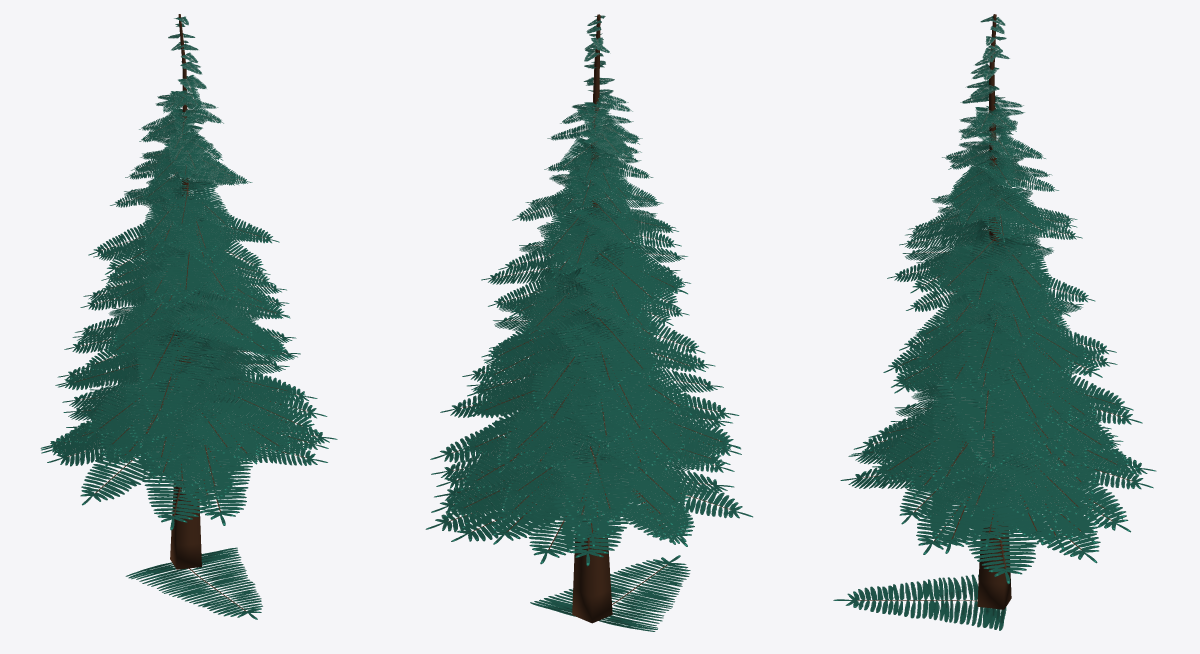
File: pine_tree.fbx
3 views of the same model, side by side, from view 1: azimuth 30°, elevation 25°; view 2: azimuth 150°, elevation 25°; view 3: azimuth 270°, elevation 25° (orthographic). The views are drawn at different scales.
Visible parts, largest first — view 1: Pine_Branch, Pine_Tree|Pine_Branch|Dupli|47, Pine_Tree|Pine_Branch|Dupli|43, Pine_Tree|Pine_Branch|Dupli|57, Pine_Tree, Pine_Tree|Pine_Branch|Dupli|138, Pine_Tree|Pine_Branch|Dupli|101, Pine_Tree|Pine_Branch|Dupli|150, Pine_Tree|Pine_Branch|Dupli|110, Pine_Tree|Pine_Branch|Dupli|143, Pine_Tree|Pine_Branch|Dupli|72, Pine_Tree|Pine_Branch|Dupli|93 (+54 smaller); view 2: Pine_Branch, Pine_Tree, Pine_Tree|Pine_Branch|Dupli|129, Pine_Tree|Pine_Branch|Dupli|10, Pine_Tree|Pine_Branch|Dupli|77, Pine_Tree|Pine_Branch|Dupli|46, Pine_Tree|Pine_Branch|Dupli|76, Pine_Tree|Pine_Branch|Dupli|64, Pine_Tree|Pine_Branch|Dupli|90, Pine_Tree|Pine_Branch|Dupli|61, Pine_Tree|Pine_Branch|Dupli|135, Pine_Tree|Pine_Branch|Dupli|56 (+68 smaller); view 3: Pine_Branch, Pine_Tree|Pine_Branch|Dupli|13, Pine_Tree, Pine_Tree|Pine_Branch|Dupli|55, Pine_Tree|Pine_Branch|Dupli|111, Pine_Tree|Pine_Branch|Dupli|138, Pine_Tree|Pine_Branch|Dupli|99, Pine_Tree|Pine_Branch|Dupli|75, Pine_Tree|Pine_Branch|Dupli|36, Pine_Tree|Pine_Branch|Dupli|94, Pine_Tree|Pine_Branch|Dupli|107, Pine_Tree|Pine_Branch|Dupli|50 (+69 smaller).
Part boxes in pixels (x1,y1,x2,y2): Pine_Branch: (125,547,262,619); Pine_Tree|Pine_Branch|Dupli|47: (134,342,225,421); Pine_Tree|Pine_Branch|Dupli|43: (130,357,233,445); Pine_Tree|Pine_Branch|Dupli|57: (136,317,212,388); Pine_Tree: (170,14,201,569); Pine_Tree|Pine_Branch|Dupli|138: (175,366,320,433); Pine_Tree|Pine_Branch|Dupli|101: (80,445,180,505); Pine_Tree|Pine_Branch|Dupli|150: (86,372,210,438); Pine_Tree|Pine_Branch|Dupli|110: (174,418,242,498); Pine_Tree|Pine_Branch|Dupli|143: (137,384,244,458); Pine_Tree|Pine_Branch|Dupli|72: (114,298,206,346); Pine_Tree|Pine_Branch|Dupli|93: (138,441,235,530); Pine_Branch: (530,555,690,631); Pine_Tree: (572,14,612,623); Pine_Tree|Pine_Branch|Dupli|129: (547,435,637,521); Pine_Tree|Pine_Branch|Dupli|10: (557,238,663,306); Pine_Tree|Pine_Branch|Dupli|77: (557,313,656,377); Pine_Tree|Pine_Branch|Dupli|46: (504,379,622,458); Pine_Tree|Pine_Branch|Dupli|76: (549,316,635,390); Pine_Tree|Pine_Branch|Dupli|64: (531,332,627,408); Pine_Tree|Pine_Branch|Dupli|90: (526,267,612,334); Pine_Tree|Pine_Branch|Dupli|61: (555,342,649,419); Pine_Tree|Pine_Branch|Dupli|135: (558,440,644,513); Pine_Tree|Pine_Branch|Dupli|56: (539,349,633,428); Pine_Branch: (833,574,1006,630); Pine_Tree|Pine_Branch|Dupli|13: (938,229,1028,294); Pine_Tree: (977,14,1011,609); Pine_Tree|Pine_Branch|Dupli|55: (970,352,1054,428); Pine_Tree|Pine_Branch|Dupli|111: (984,452,1095,518); Pine_Tree|Pine_Branch|Dupli|138: (872,397,1010,480); Pine_Tree|Pine_Branch|Dupli|99: (924,445,1033,553); Pine_Tree|Pine_Branch|Dupli|75: (959,305,1042,378); Pine_Tree|Pine_Branch|Dupli|36: (932,377,1031,469); Pine_Tree|Pine_Branch|Dupli|94: (931,493,1038,584); Pine_Tree|Pine_Branch|Dupli|107: (899,451,1030,524); Pine_Tree|Pine_Branch|Dupli|50: (948,362,1039,440).
Bounding box in the file's own units: 425 × 710 × 418.
Materials: 2 (1 with a texture image).
